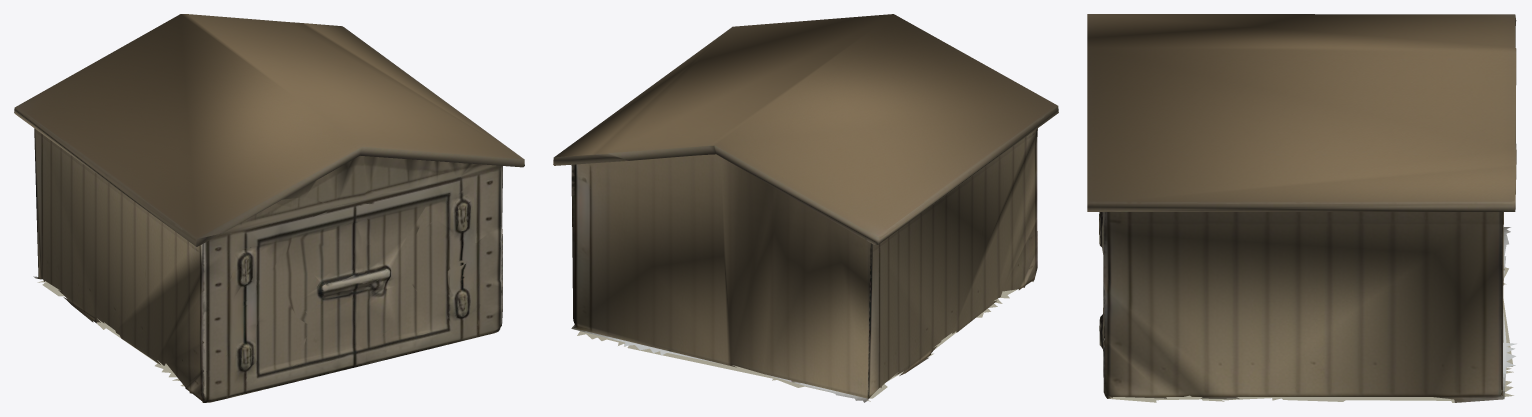
The model's file is garage.fbx.
3 views of the same model, side by side, from view 1: azimuth 30°, elevation 25°; view 2: azimuth 150°, elevation 25°; view 3: azimuth 270°, elevation 25° (orthographic). The views are drawn at different scales.
Visible parts, largest first — view 1: tmpzr86k5g1.ply; view 2: tmpzr86k5g1.ply; view 3: tmpzr86k5g1.ply.
Part boxes in pixels (bbox=[...]): tmpzr86k5g1.ply: bbox=[14, 14, 524, 402]; tmpzr86k5g1.ply: bbox=[553, 14, 1058, 402]; tmpzr86k5g1.ply: bbox=[1087, 14, 1516, 402].
Size of the model in its own units: 198 by 130 by 190.
1 material, 1 textured.
